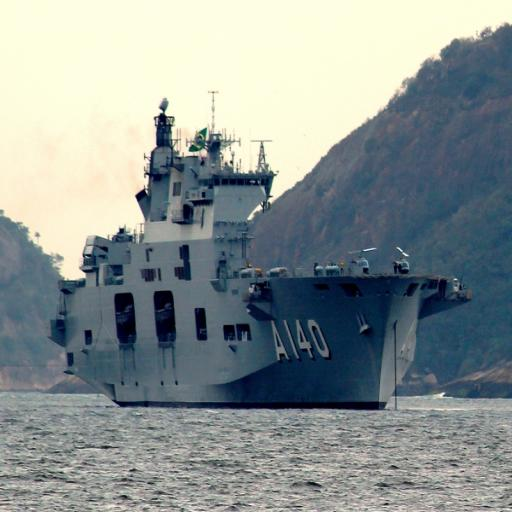Portanaves: (52, 82, 482, 414)
